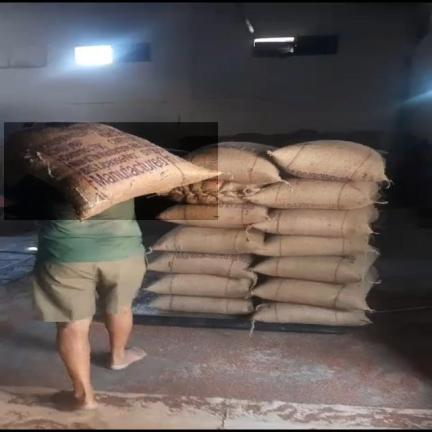Zone-Counting: (5, 123, 216, 408)
